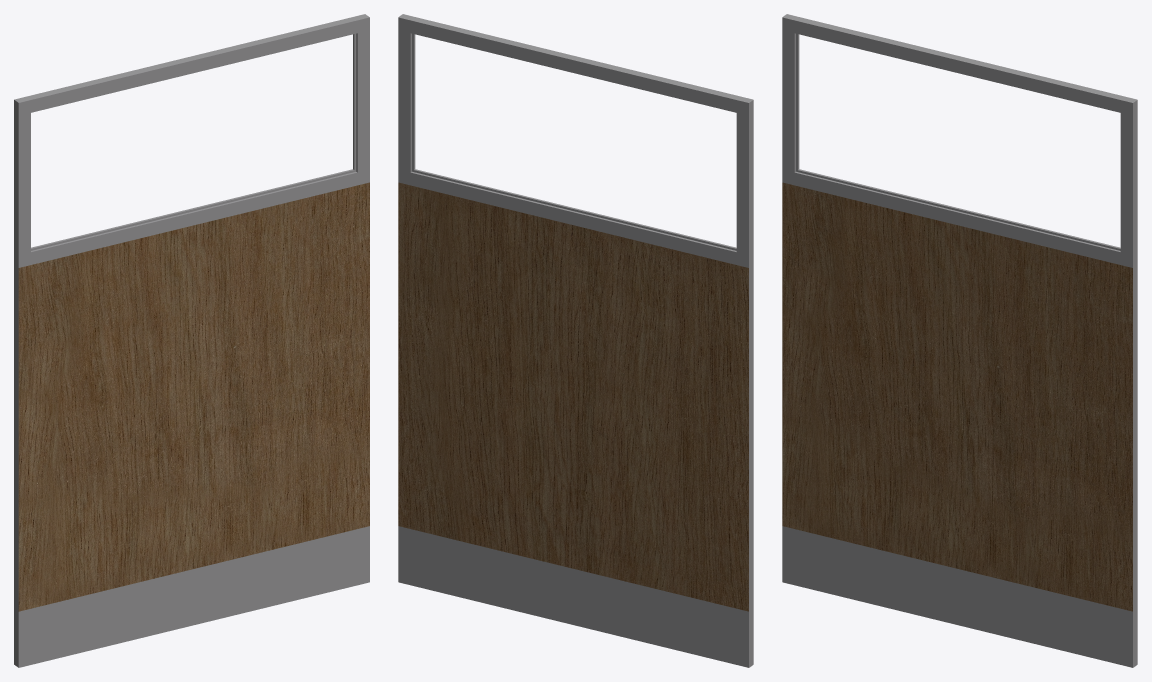
The model's file is cubiculo_1.glb.
3 renders of one model, left to right at view 1: azimuth 30°, elevation 25°; view 2: azimuth 150°, elevation 25°; view 3: azimuth 330°, elevation 25°, orthographic.
Visible parts, largest first — view 1: cubiculo 1_export; view 2: cubiculo 1_export; view 3: cubiculo 1_export.
Part boxes in pixels (<box>): cubiculo 1_export: <box>14,14,369,667</box>; cubiculo 1_export: <box>398,14,753,667</box>; cubiculo 1_export: <box>782,14,1137,667</box>.
Bounding box in the file's own units: 5.85 × 9 × 0.1368.
2 materials, 1 textured.
